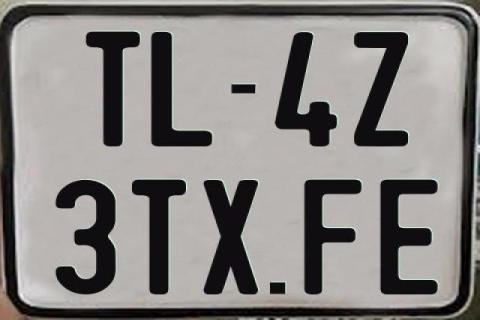0: (56, 178, 122, 296), (274, 32, 342, 146)
E: (377, 179, 438, 295)
F: (304, 177, 364, 293)
L: (152, 32, 218, 146)
T: (85, 31, 143, 148), (131, 178, 186, 298)
X: (200, 178, 261, 294)
Z: (354, 32, 410, 150)
